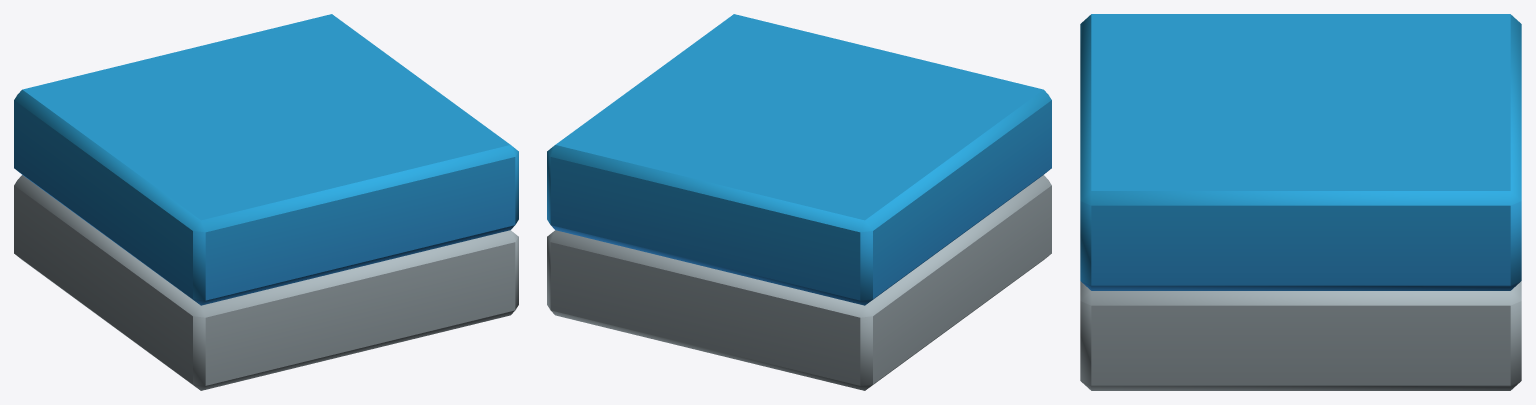
File: platform_2x2x1_blue.obj
3 renders of one model, left to right at view 1: azimuth 30°, elevation 25°; view 2: azimuth 150°, elevation 25°; view 3: azimuth 270°, elevation 25°, orthographic. The views are drawn at different scales.
Parts seen in each view (by area): view 1: platform_2x2x1_blue; view 2: platform_2x2x1_blue; view 3: platform_2x2x1_blue.
Part boxes in pixels (x1,y1,x2,y2): platform_2x2x1_blue: (14,14,518,390); platform_2x2x1_blue: (547,14,1051,390); platform_2x2x1_blue: (1080,14,1521,390).
Size of the model in its own units: 2 by 1 by 2.
